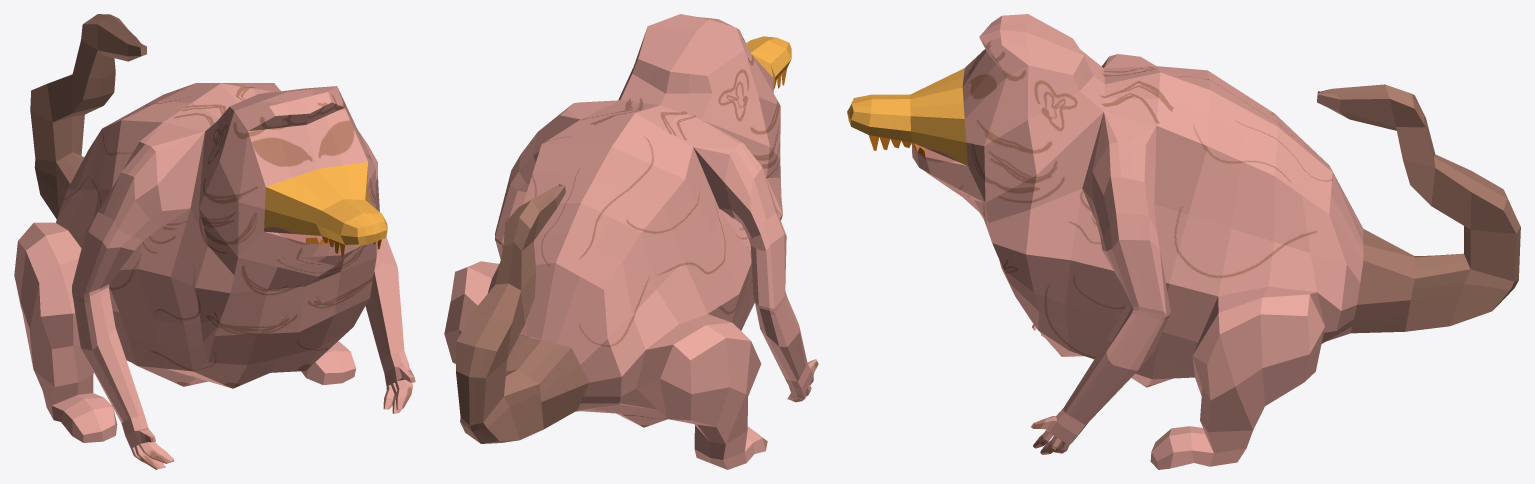
Rendered from TheCreature2Evolution_Obj.fbx.
3 views of the same model, side by side, from view 1: azimuth 30°, elevation 25°; view 2: azimuth 150°, elevation 25°; view 3: azimuth 270°, elevation 25° (orthographic). The views are drawn at different scales.
Parts seen in each view (by area): view 1: midguy; view 2: midguy; view 3: midguy.
Part boxes in pixels (bbox=[...]): midguy: bbox=[14, 14, 415, 469]; midguy: bbox=[444, 14, 818, 469]; midguy: bbox=[847, 14, 1520, 469].
Size of the model in its own units: 99.15 by 112 by 182.
1 material, 1 textured.
